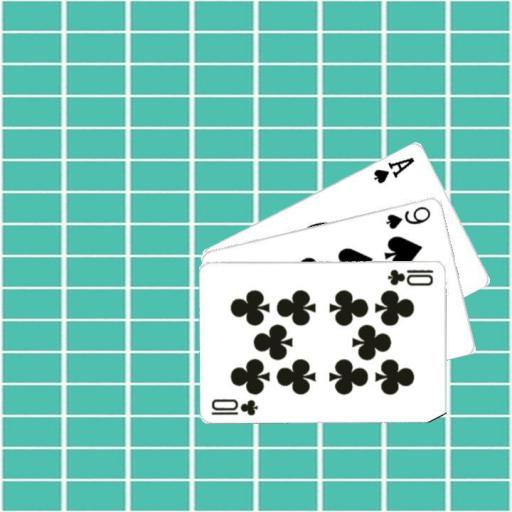10C: (209, 395, 260, 417), (385, 265, 435, 287)
9S: (383, 203, 433, 230)
AS: (370, 153, 416, 185)
